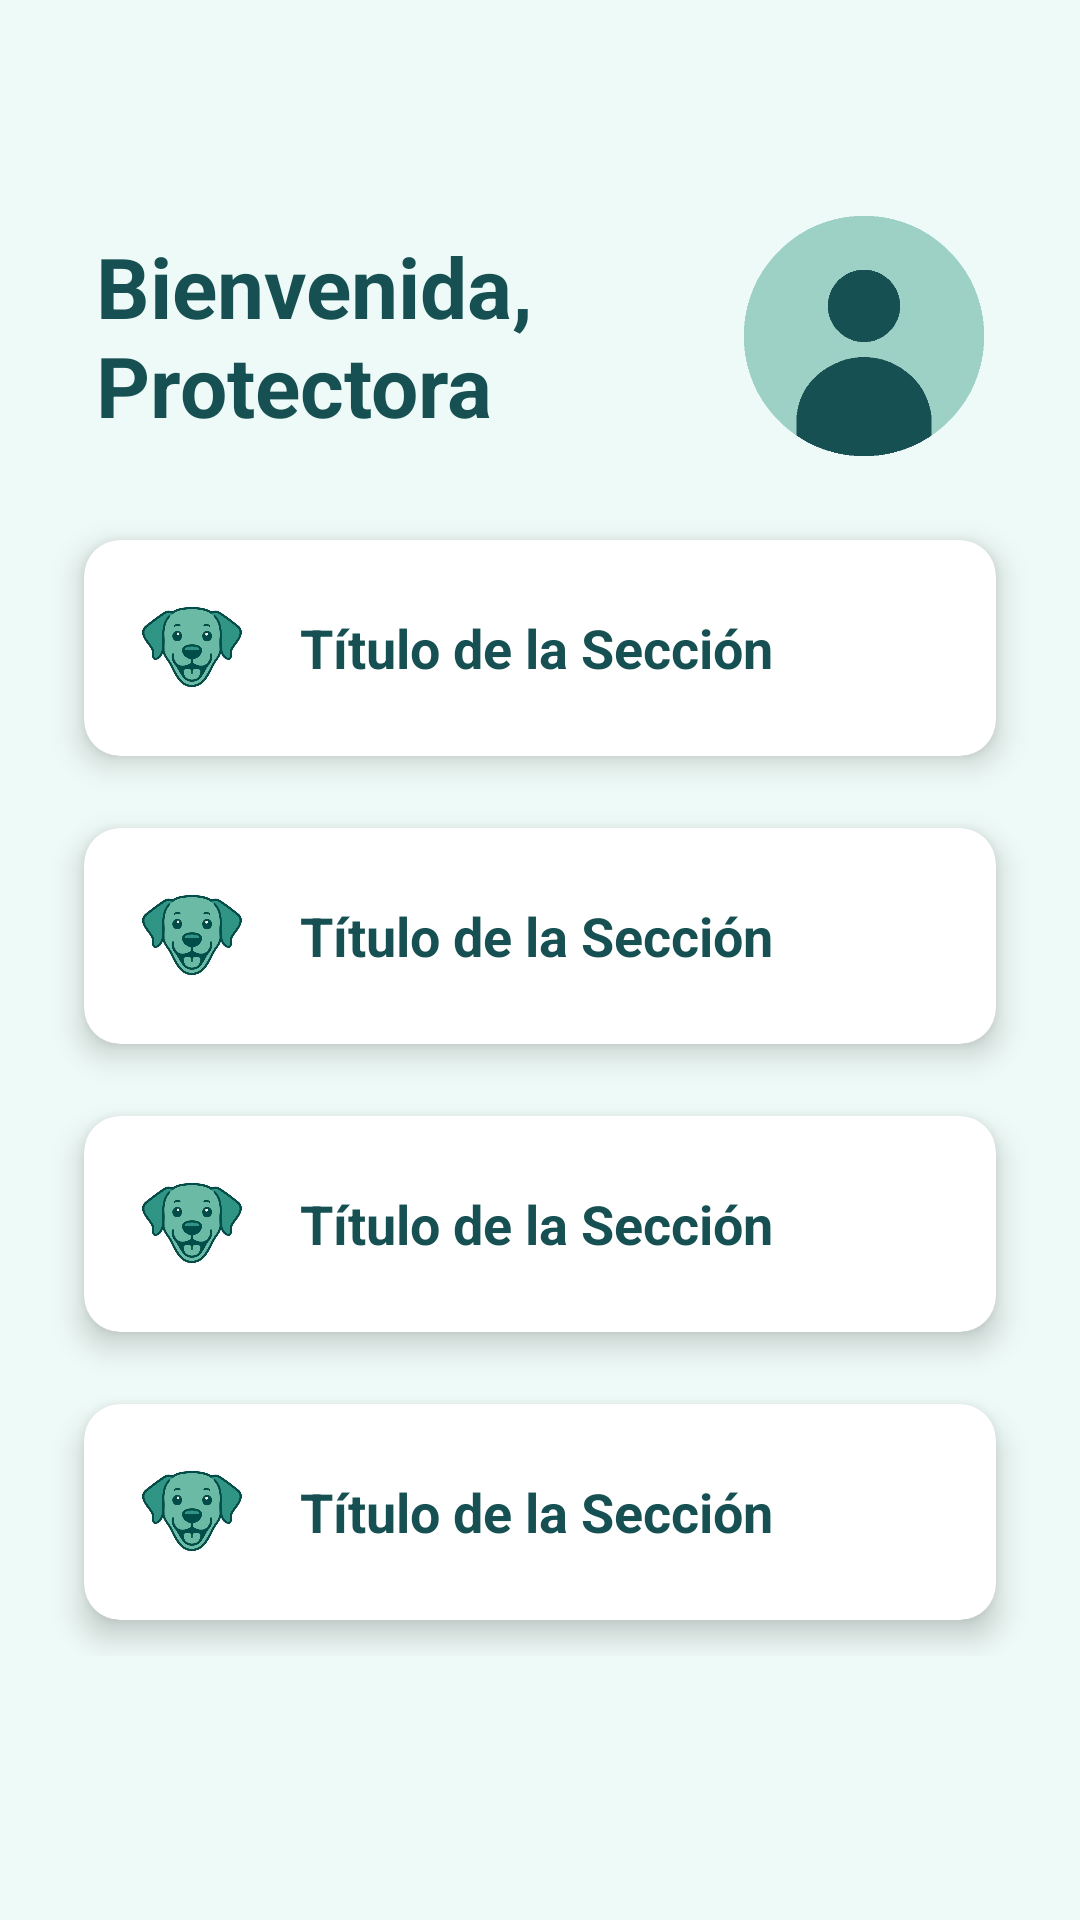

Where to tap for icons on this 1080w x 1920h app screen, as (x,y):
Avatar: (864,336)
perro: (192,647), (192,935), (192,1223), (192,1511)
